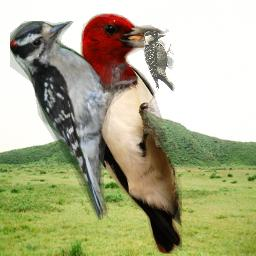Woodpecker: (71, 13, 182, 254), (10, 21, 138, 220), (144, 31, 175, 92)
